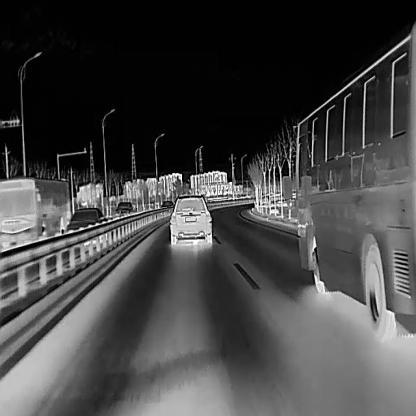car: (281, 26, 416, 337), (0, 176, 68, 252), (168, 193, 211, 246), (66, 207, 108, 246), (115, 201, 133, 222), (159, 201, 175, 214)
